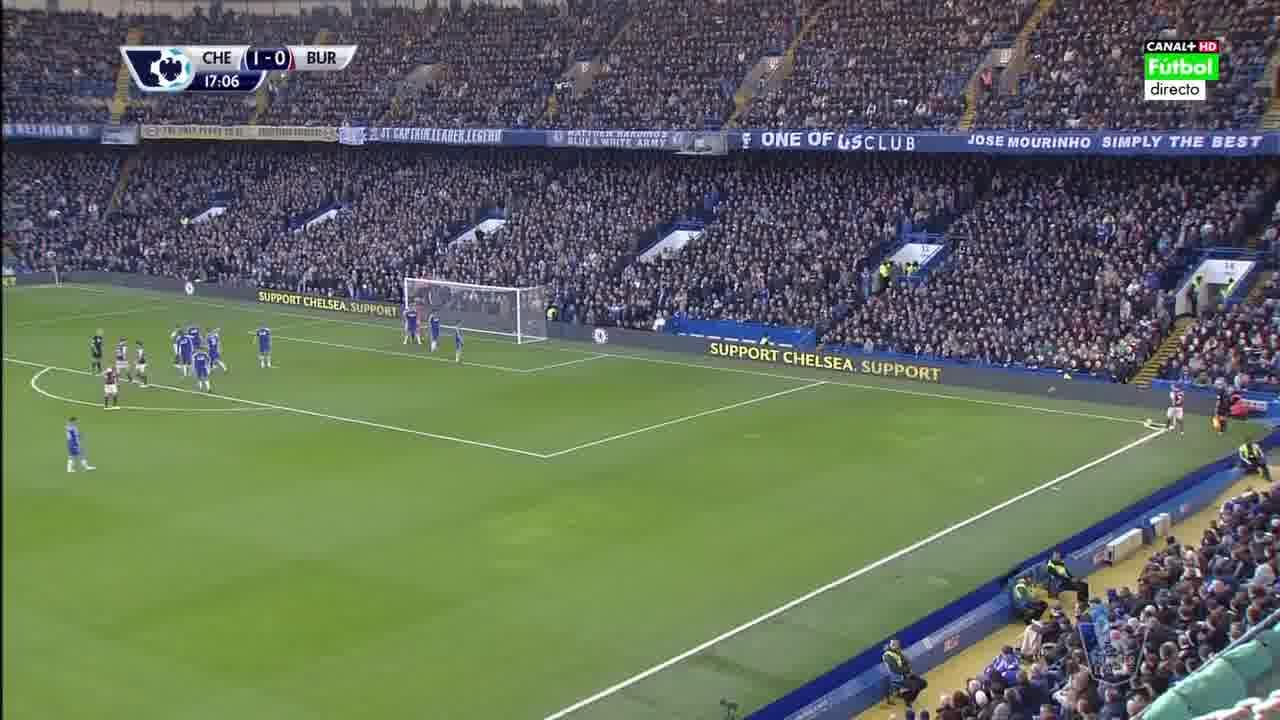football: (1145, 416, 1153, 426)
